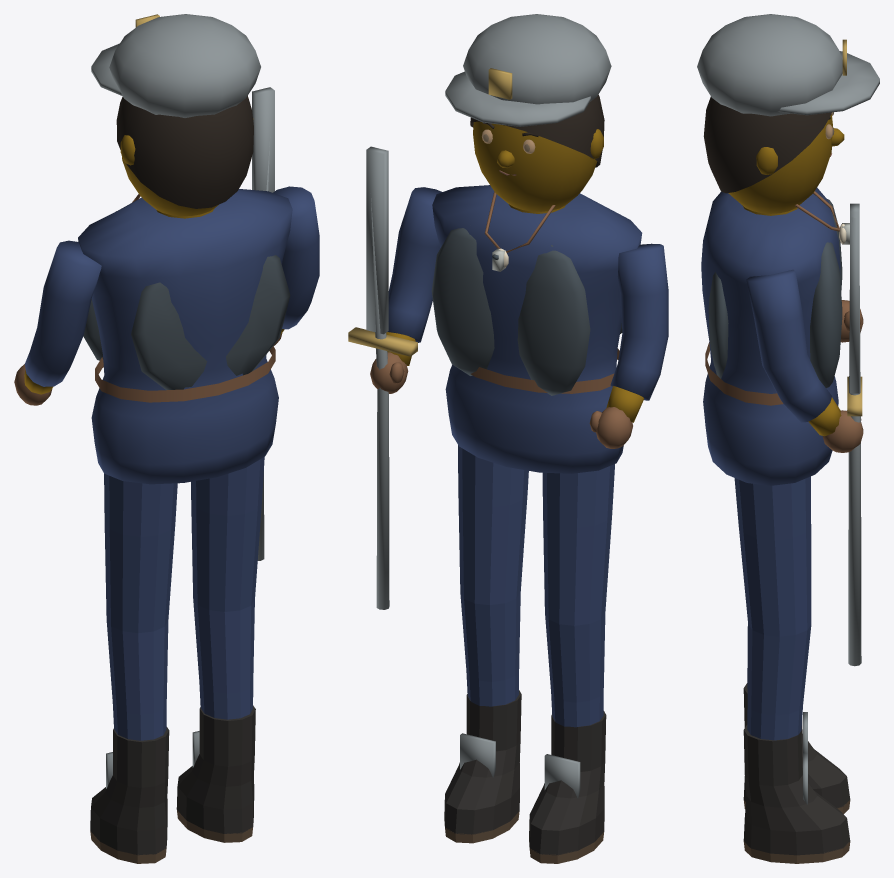
File: SM_NPC_ROCA.glb
3 views of the same model, side by side, from view 1: azimuth 30°, elevation 25°; view 2: azimuth 150°, elevation 25°; view 3: azimuth 270°, elevation 25° (orthographic). The views are drawn at different scales.
Parts seen in each view (by area): view 1: SM_NPC_ROCA_BODY, SM_NPC_ROCA_LEG_L, SM_NPC_ROCA_HAIR, SM_NPC_ROCA_LEG_R, SM_NPC_ROCA_ARM_L, SM_NPC_ROCA_ARM_R, SM_NPC_ROCA_HEAD; view 2: SM_NPC_ROCA_BODY, SM_NPC_ROCA_LEG_L, SM_NPC_ROCA_LEG_R, SM_NPC_ROCA_HAIR, SM_NPC_ROCA_ARM_R, SM_NPC_ROCA_ARM_L, SM_NPC_ROCA_HEAD; view 3: SM_NPC_ROCA_BODY, SM_NPC_ROCA_LEG_R, SM_NPC_ROCA_HAIR, SM_NPC_ROCA_ARM_R, SM_NPC_ROCA_HEAD, SM_NPC_ROCA_LEG_L, SM_NPC_ROCA_ARM_L.
Boxes of the visible parts, x1,y1,x2,y2 form: SM_NPC_ROCA_BODY: (78,189,292,484); SM_NPC_ROCA_LEG_L: (90,473,177,863); SM_NPC_ROCA_HAIR: (91,14,260,208); SM_NPC_ROCA_LEG_R: (176,457,264,842); SM_NPC_ROCA_ARM_L: (14,240,101,405); SM_NPC_ROCA_ARM_R: (252,87,319,560); SM_NPC_ROCA_HEAD: (120,118,253,216); SM_NPC_ROCA_BODY: (431,185,642,473); SM_NPC_ROCA_LEG_L: (529,464,614,863); SM_NPC_ROCA_LEG_R: (444,445,528,843); SM_NPC_ROCA_HAIR: (445,14,611,167); SM_NPC_ROCA_ARM_R: (348,146,441,609); SM_NPC_ROCA_ARM_L: (589,243,668,448); SM_NPC_ROCA_HEAD: (473,121,603,211); SM_NPC_ROCA_BODY: (701,187,849,485); SM_NPC_ROCA_LEG_R: (734,476,850,863); SM_NPC_ROCA_HAIR: (697,14,879,193); SM_NPC_ROCA_ARM_R: (746,203,863,666); SM_NPC_ROCA_HEAD: (728,114,844,213); SM_NPC_ROCA_LEG_L: (743,476,850,814); SM_NPC_ROCA_ARM_L: (840,300,863,342).
Size of the model in its own units: 0.7196 by 1.97 by 0.4062.
